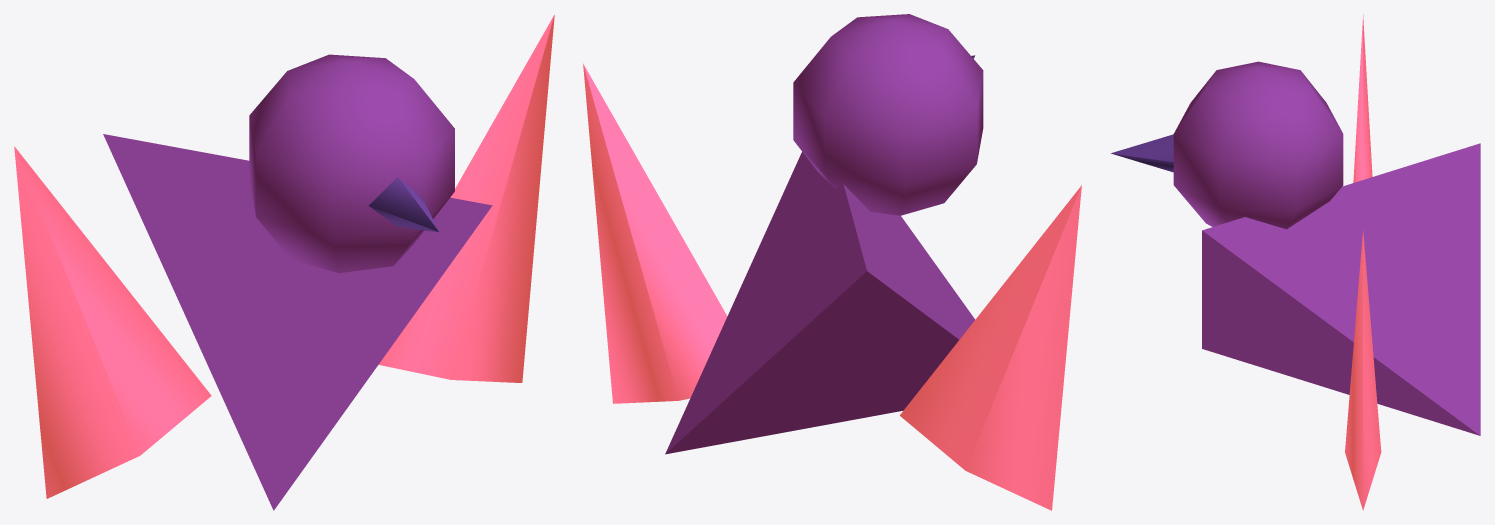
The model's file is corrupted_red_feather_bird.glb.
3 views of the same model, side by side, from view 1: azimuth 30°, elevation 25°; view 2: azimuth 150°, elevation 25°; view 3: azimuth 270°, elevation 25° (orthographic). The views are drawn at different scales.
Visible parts, largest first — view 1: body, head, wing_l, wing_r, beak; view 2: body, head, wing_l, wing_r; view 3: body, head, wing_r, wing_l, beak.
Part boxes in pixels (left/top/right/bottom): body: left=103, top=134, right=492, bottom=510; head: left=249, top=54, right=454, bottom=273; wing_l: left=14, top=146, right=211, bottom=498; wing_r: left=378, top=15, right=554, bottom=382; beak: left=368, top=177, right=438, bottom=232; body: left=665, top=152, right=975, bottom=454; head: left=793, top=14, right=983, bottom=215; wing_l: left=900, top=185, right=1081, bottom=510; wing_r: left=583, top=63, right=727, bottom=403; body: left=1202, top=143, right=1480, bottom=435; head: left=1173, top=61, right=1343, bottom=229; wing_r: left=1345, top=230, right=1381, bottom=510; wing_l: left=1353, top=14, right=1372, bottom=182; beak: left=1111, top=134, right=1175, bottom=172.
Size of the model in its own units: 2.52 by 1.9 by 1.84.
